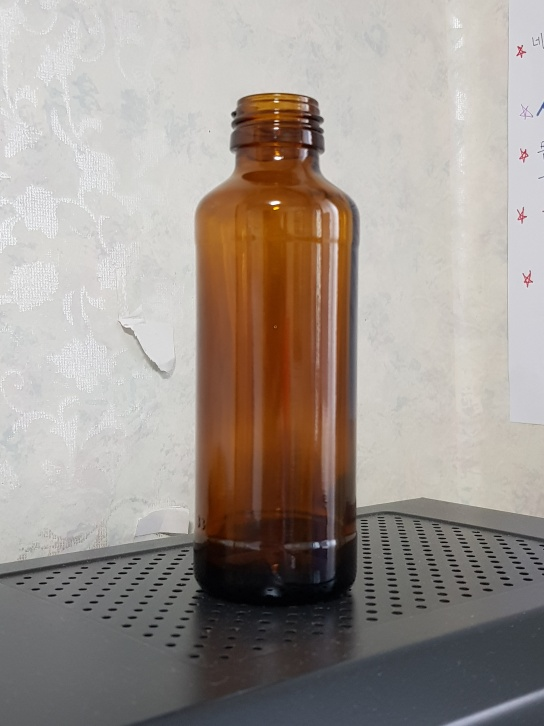Glass: (193, 93, 361, 606)
